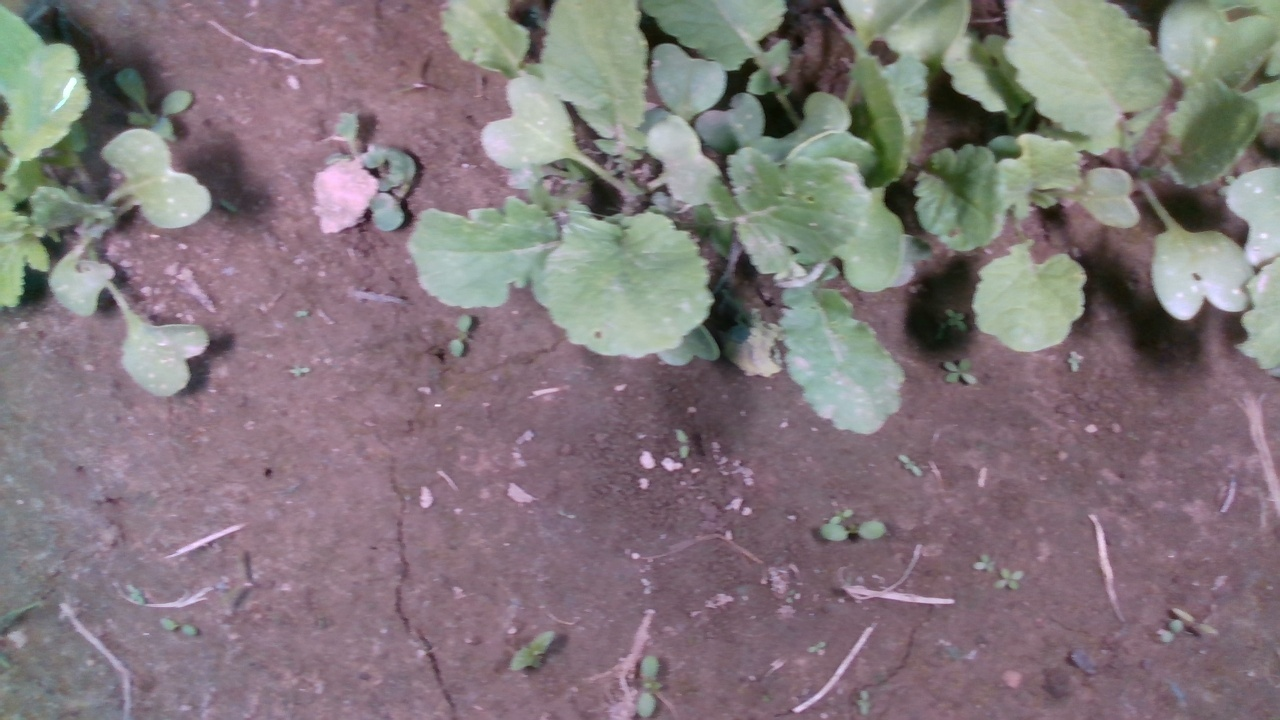weed: (940, 354, 979, 387), (445, 311, 472, 358)
